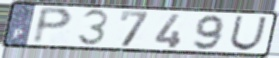3: (75, 8, 111, 48)
4: (151, 12, 184, 50)
7: (118, 10, 152, 48)
9: (193, 14, 226, 51)
P: (30, 6, 75, 46)
U: (228, 15, 269, 52)
